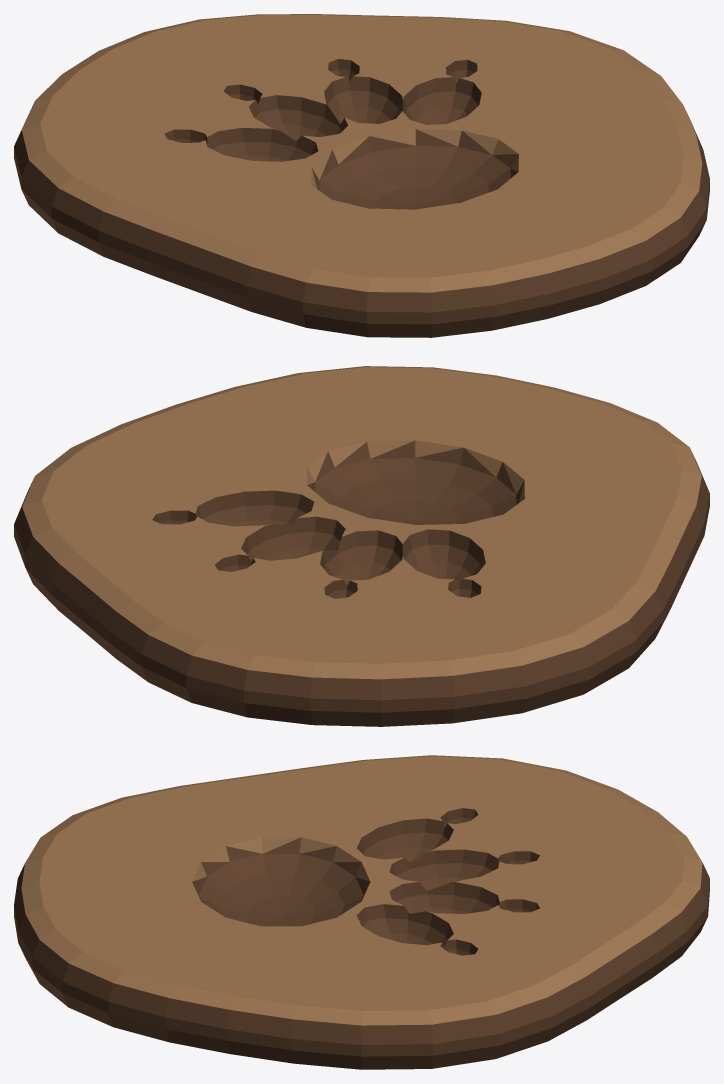
File: pegada-capivara.glb
3 views of the same model, one above another, from view 1: azimuth 30°, elevation 25°; view 2: azimuth 150°, elevation 25°; view 3: azimuth 270°, elevation 25° (orthographic). The views are drawn at different scales.
Parts seen in each view (by area): view 1: pegada-capivara; view 2: pegada-capivara; view 3: pegada-capivara.
Part boxes in pixels (bbox=[...]): pegada-capivara: bbox=[14, 14, 709, 337]; pegada-capivara: bbox=[14, 366, 709, 726]; pegada-capivara: bbox=[14, 755, 709, 1069].
Bounding box in the file's own units: 0.2055 × 0.02 × 0.2185.
